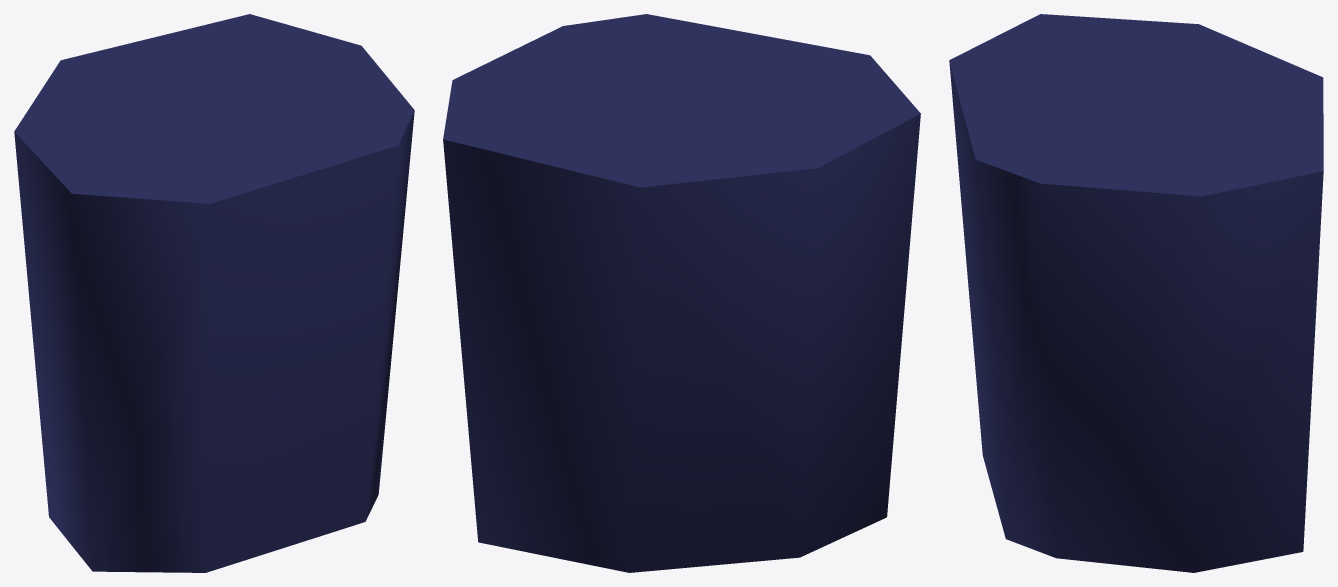
File: Platform1LOD.fbx
The picture shows the model from 3 angles, left to right: view 1: azimuth 30°, elevation 25°; view 2: azimuth 150°, elevation 25°; view 3: azimuth 270°, elevation 25°; orthographic projection. The views are drawn at different scales.
Parts seen in each view (by area): view 1: platform1; view 2: platform1; view 3: platform1.
Part boxes in pixels (x1,y1,x2,y2): platform1: (14, 14, 414, 572); platform1: (443, 14, 920, 572); platform1: (949, 14, 1323, 572).
Size of the model in its own units: 408 by 411 by 354.
